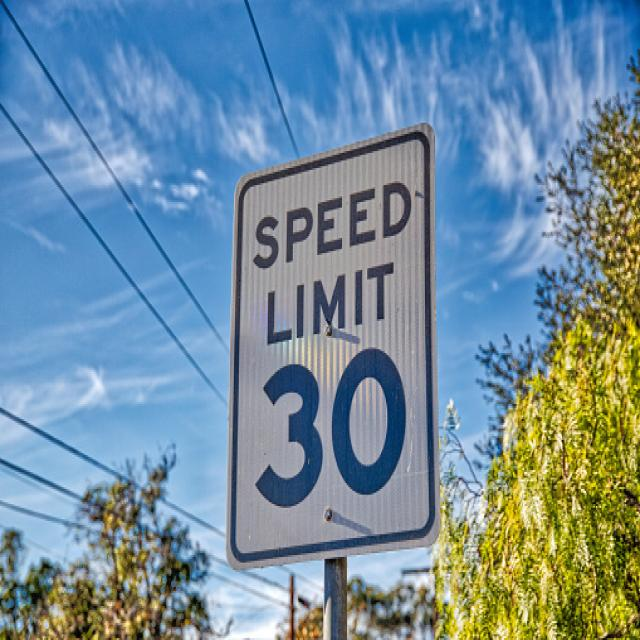speedLimit30: (227, 120, 446, 574)
